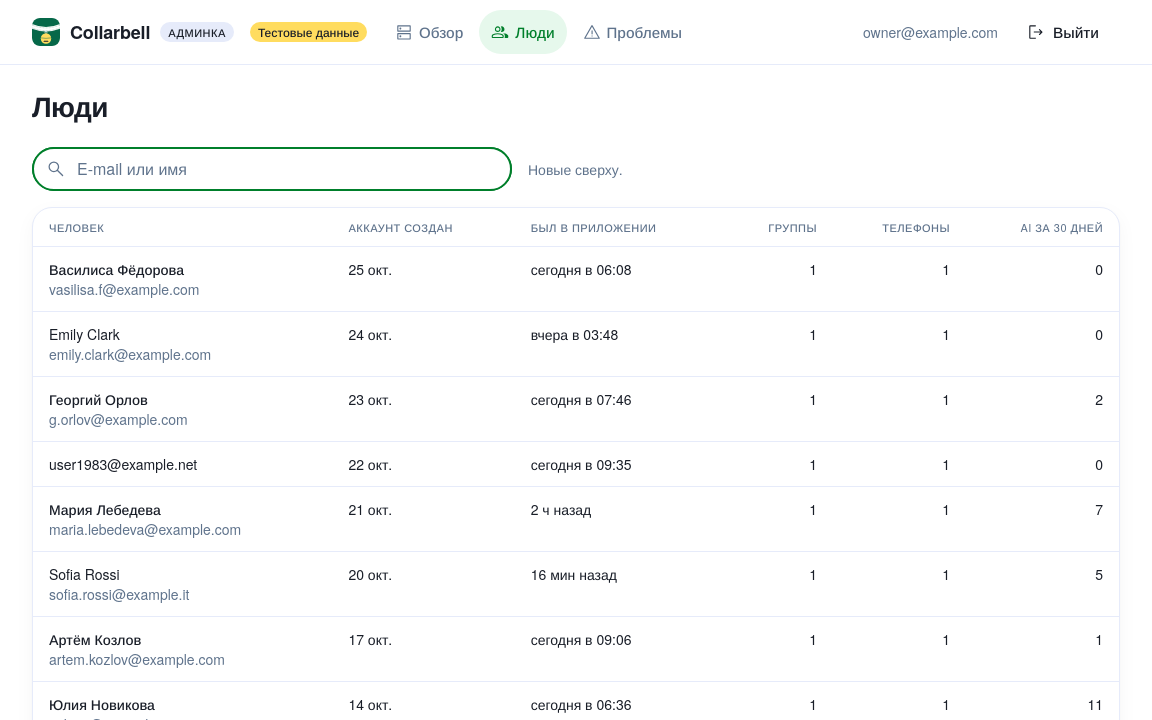
Scenario: Люди › shows the newest people, searches, and opens a person
Expected: the text "Новые сверху." is shown, [528,158,623,180]
Step 1. Type "смирн" into the search field with placeholder "E-mail или имя" → {"x": 272, "y": 169}, box [32,147,512,191]
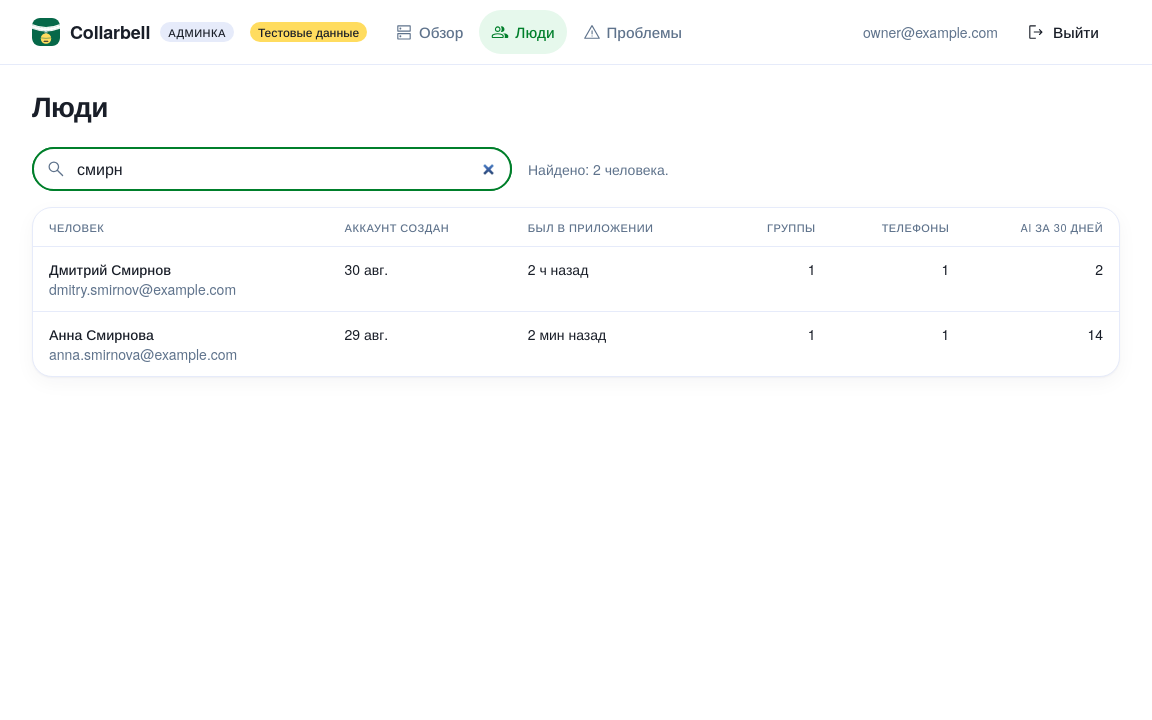
Expected: the number of rows is 3, [33,208,1119,246]; [33,246,1119,311]; [33,311,1119,376]
Step 2. Click the link "Анна Смирнова" → {"x": 101, "y": 334}, box [49,324,154,344]
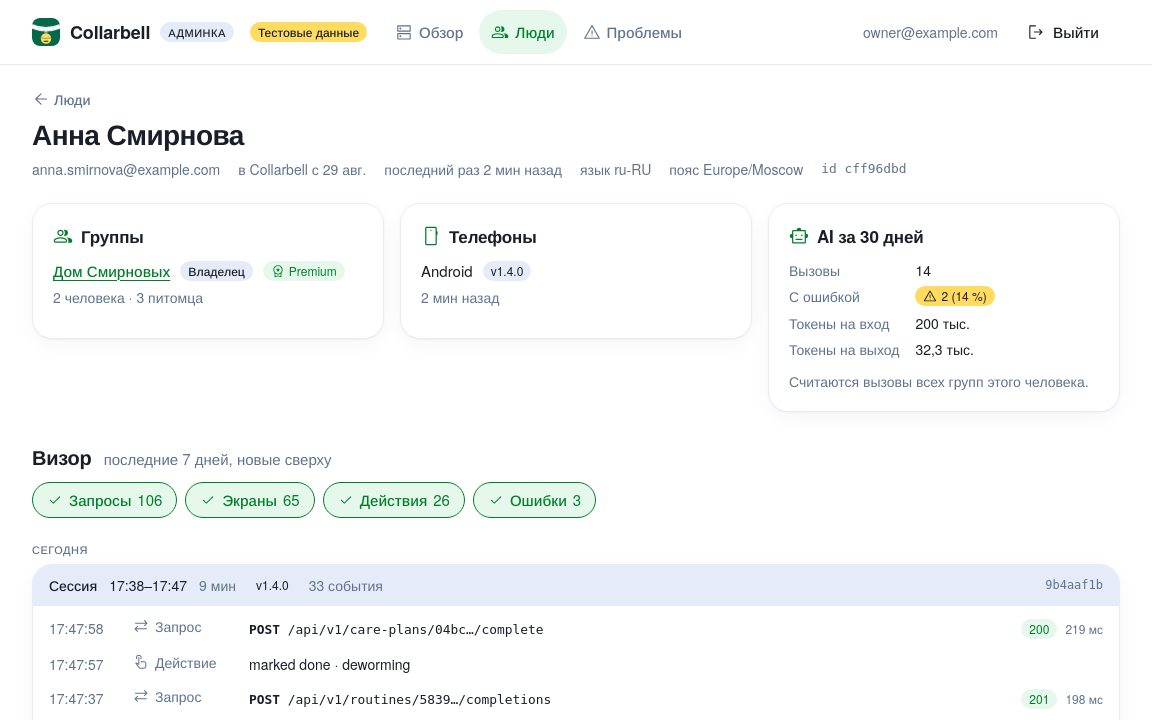
Now the heading "Анна Смирнова" is shown, box [32,117,244,151]
